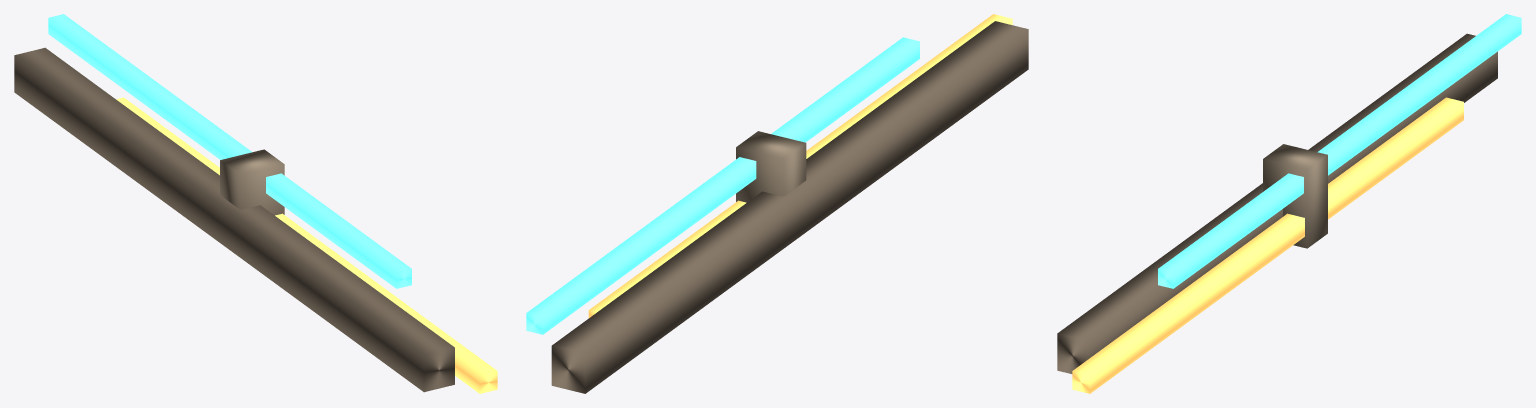
File: refinery-cable-tray-lod2.glb
3 views of the same model, side by side, from view 1: azimuth 30°, elevation 25°; view 2: azimuth 150°, elevation 25°; view 3: azimuth 330°, elevation 25° (orthographic). The views are drawn at different scales.
Visible parts, largest first — view 1: refinery-cable-tray-spine, refinery-cable-tray-data, refinery-cable-tray-power, refinery-cable-tray-clamp; view 2: refinery-cable-tray-spine, refinery-cable-tray-data, refinery-cable-tray-clamp, refinery-cable-tray-power; view 3: refinery-cable-tray-power, refinery-cable-tray-spine, refinery-cable-tray-data, refinery-cable-tray-clamp.
Boxes of the visible parts, x1=… form: refinery-cable-tray-spine: x1=14, y1=47, x2=454, y2=392; refinery-cable-tray-data: x1=48, y1=14, x2=411, y2=288; refinery-cable-tray-power: x1=116, y1=97, x2=497, y2=393; refinery-cable-tray-clamp: x1=220, y1=149, x2=284, y2=215; refinery-cable-tray-spine: x1=551, y1=21, x2=1028, y2=393; refinery-cable-tray-data: x1=526, y1=37, x2=919, y2=334; refinery-cable-tray-clamp: x1=736, y1=131, x2=806, y2=202; refinery-cable-tray-power: x1=588, y1=14, x2=1012, y2=317; refinery-cable-tray-power: x1=1072, y1=97, x2=1463, y2=393; refinery-cable-tray-spine: x1=1057, y1=33, x2=1497, y2=373; refinery-cable-tray-data: x1=1158, y1=14, x2=1521, y2=288; refinery-cable-tray-clamp: x1=1263, y1=144, x2=1327, y2=248.
Size of the model in its own units: 0.25 by 0.34 by 3.38.
